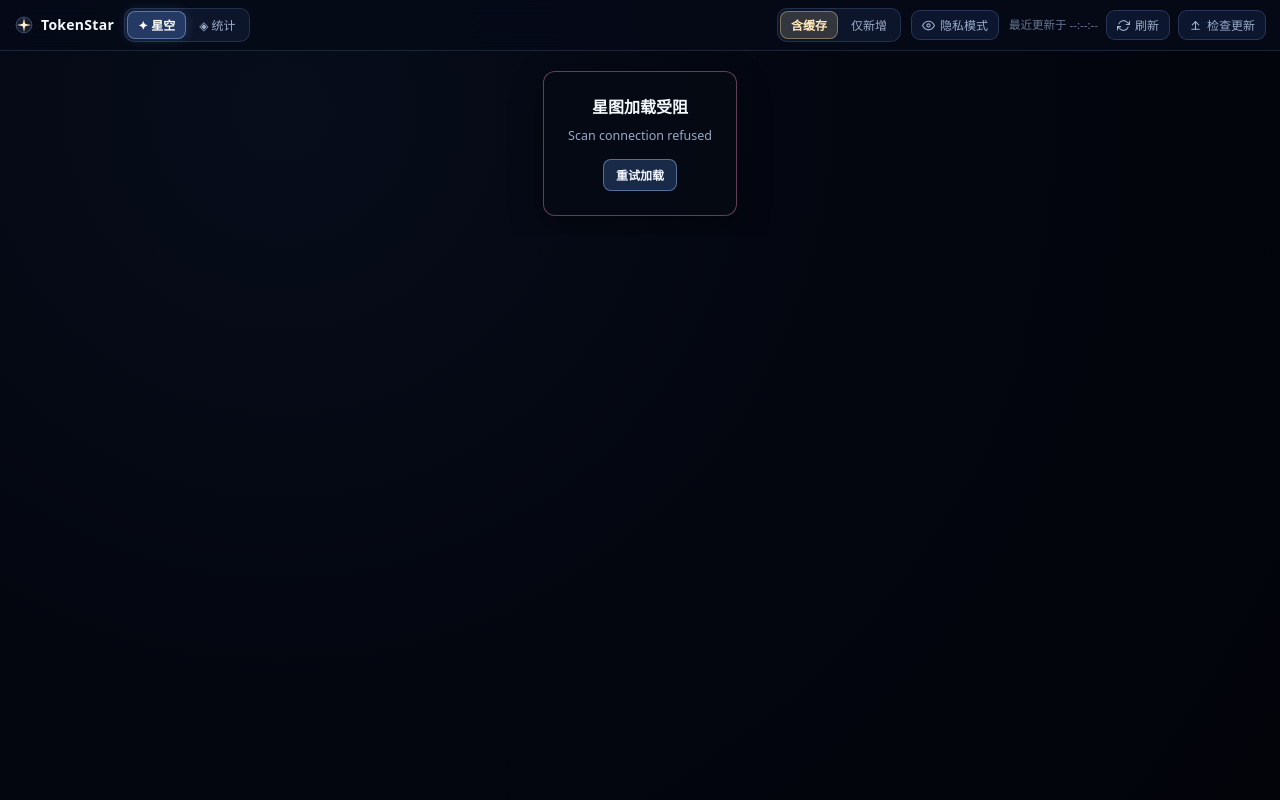
Test case: TopBar, StarHeatmap, UsageTables, StatsTab & App Integration › shows recoverable error screen when initial load fails and retries cleanly
The image size is (1280, 800).
Click the button "重试加载".
click(640, 175)  # box [603,159,677,191]
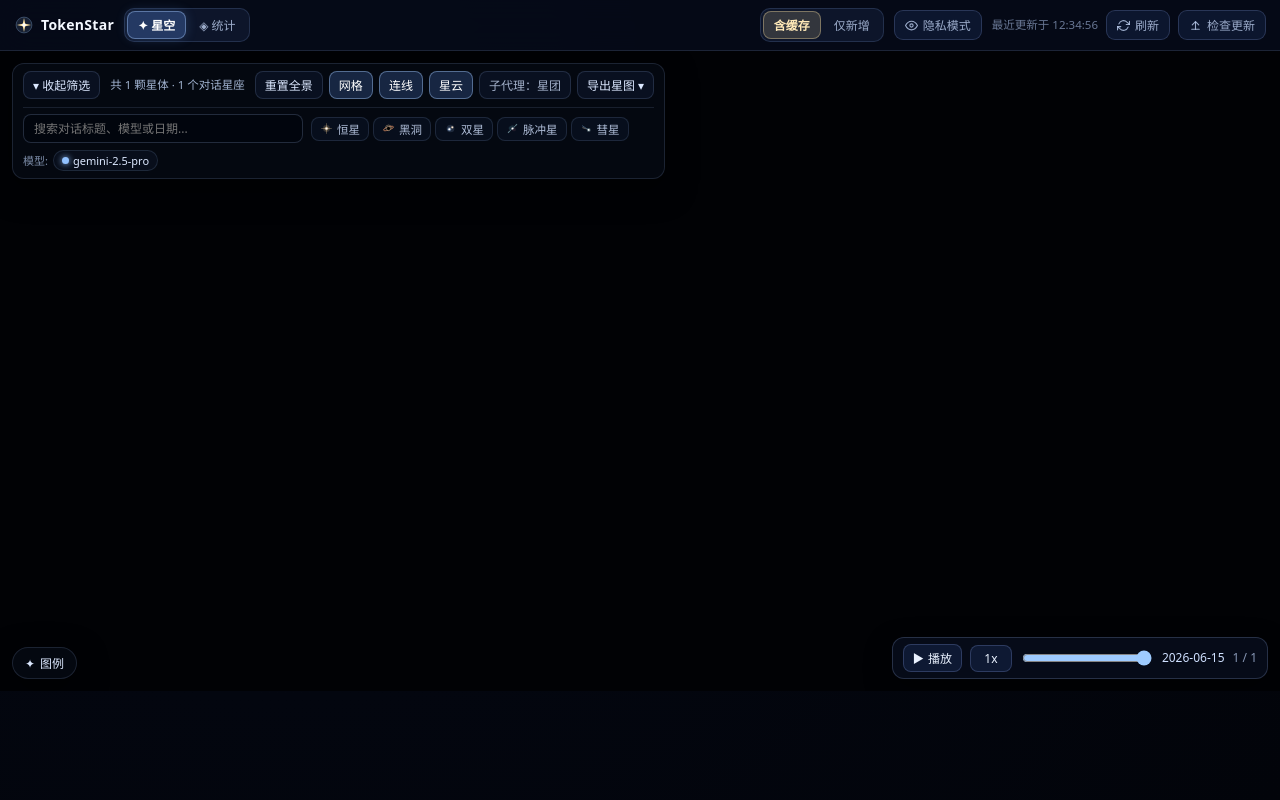
expect the text "共 1 颗星体" is shown: met, box [110,77,245,92]
